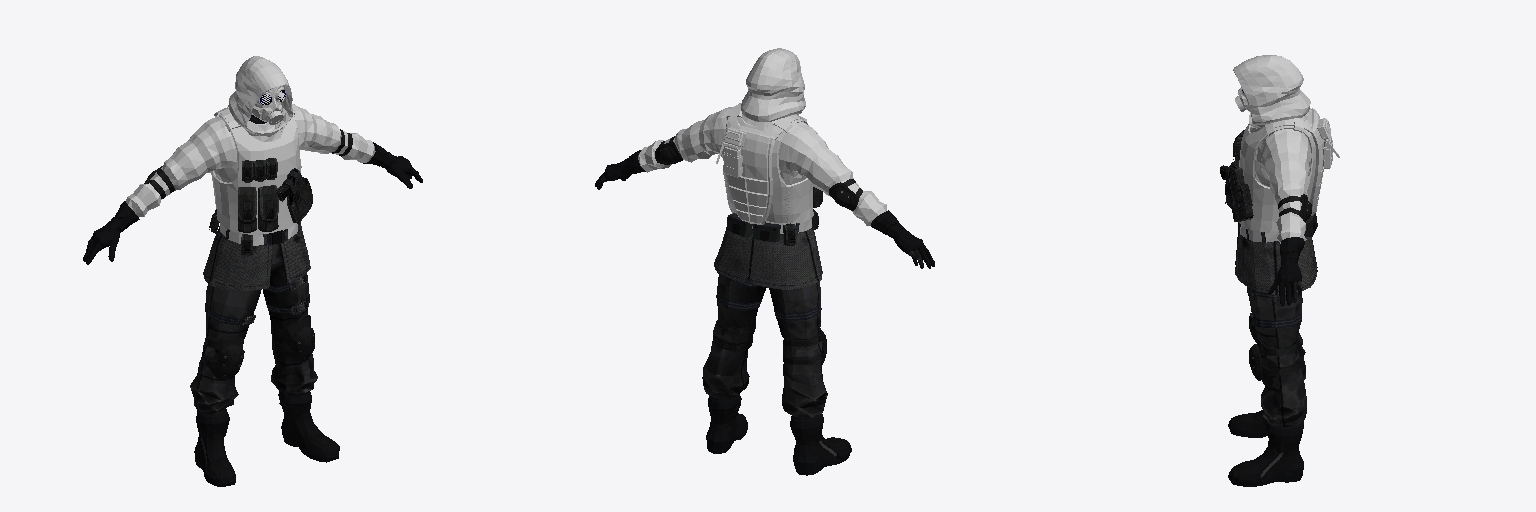
The picture shows the model from 3 angles: view 1: azimuth 30°, elevation 25°; view 2: azimuth 150°, elevation 25°; view 3: azimuth 270°, elevation 25°; orthographic projection.
Visible parts, largest first — view 1: 0, 3, 1; view 2: 0, 1, 3; view 3: 0, 1, 3.
Boxes of the visible parts, <box> form: 0: <box>126,56,375,245</box>; 3: <box>83,142,422,486</box>; 1: <box>146,115,352,414</box>; 0: <box>638,48,886,233</box>; 1: <box>659,136,862,418</box>; 3: <box>595,141,934,475</box>; 0: <box>1233,55,1339,243</box>; 1: <box>1235,196,1317,426</box>; 3: <box>1220,130,1317,486</box>.
Bounding box in the file's own units: 1.65 × 1.88 × 0.5144.
4 materials, 3 textured.